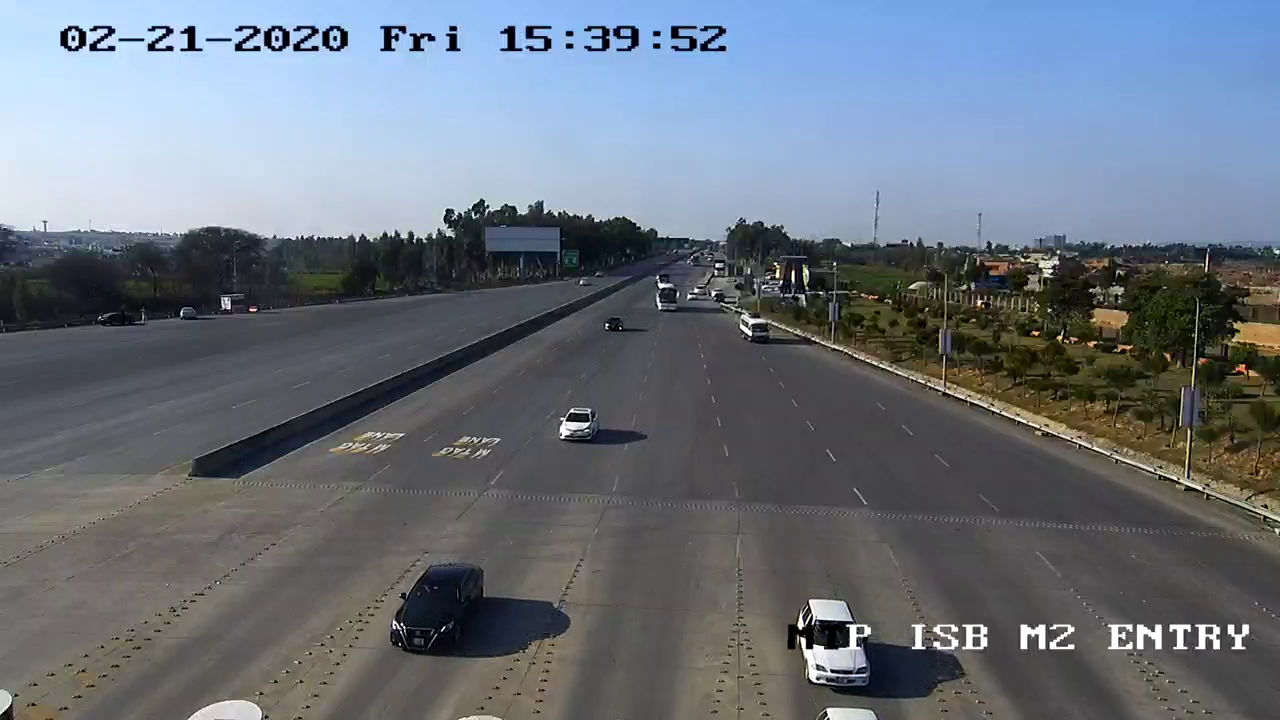f1: (380, 546, 495, 666), (554, 398, 603, 448)
